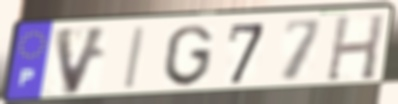7: (280, 17, 323, 84), (226, 22, 268, 86)
G: (161, 23, 216, 89)
H: (323, 12, 387, 83)
I: (122, 25, 149, 92)
V: (52, 24, 111, 99)
